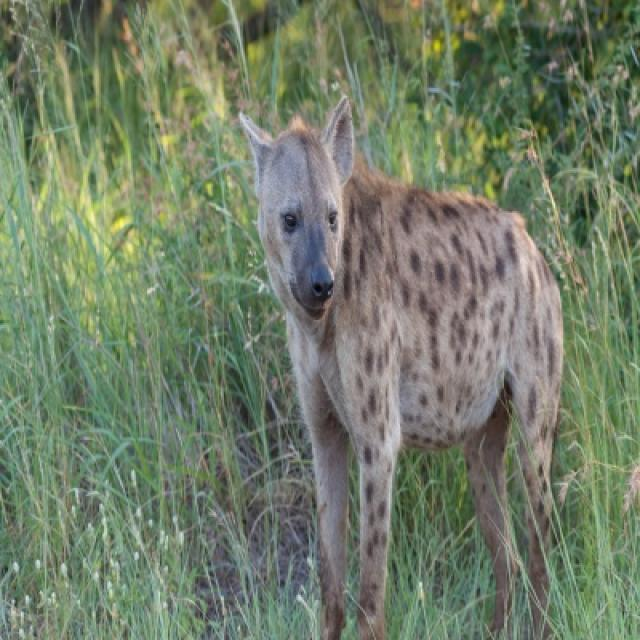hyena: (237, 102, 565, 638)
